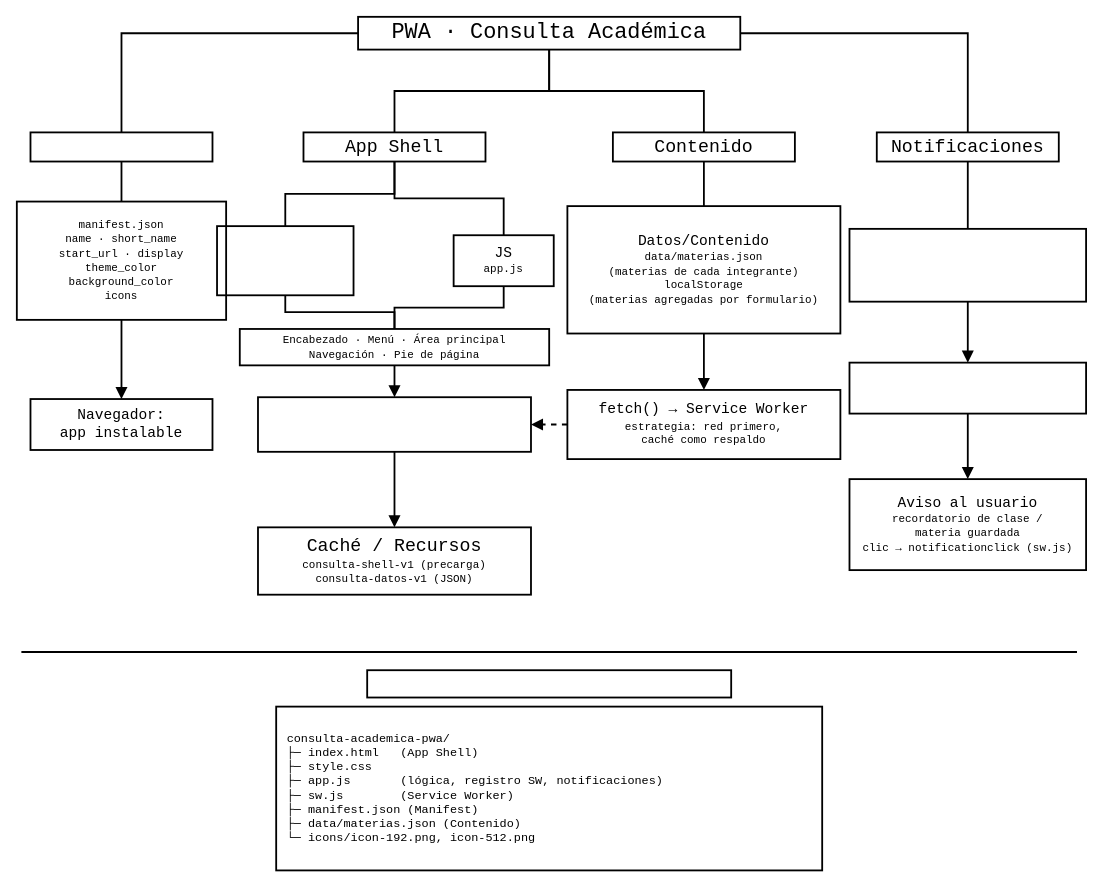
This 1102x886 diagram has some shape labels left out. Each missing label, with the centre of its shape:
"Estructura del proyecto" belongs at point 549,683.
"HTML/CSS index.html style.css" belongs at point 285,260.
"Manifest" belongs at point 121,146.
"Notification API Permiso: notifications requestPermission() en app.js" belongs at point 967,265.
"Service Worker sw.js · registrado desde app.js" belongs at point 394,424.
"showNotification() vía Service Worker" belongs at point 967,387.
